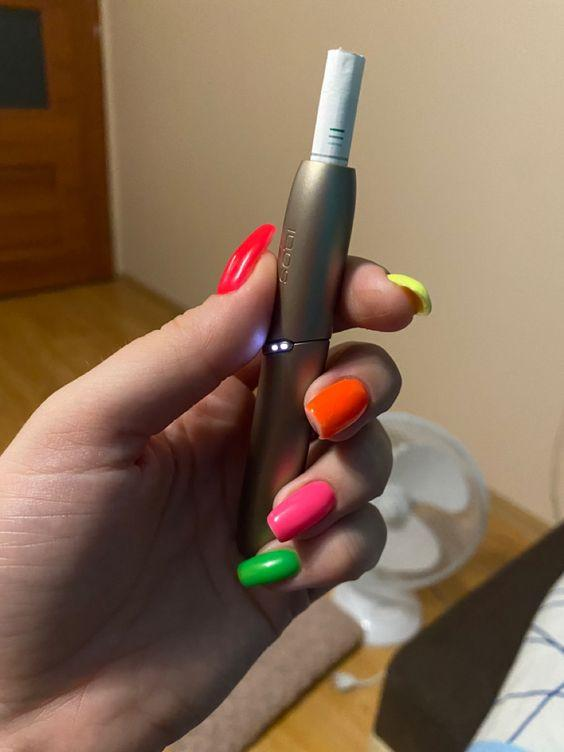iqos: (246, 49, 364, 552)
